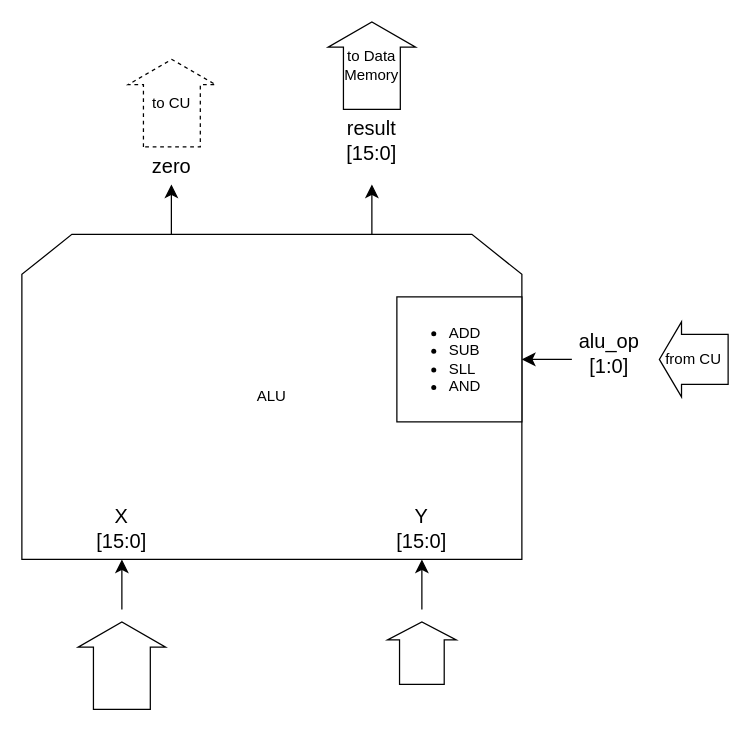
The diagram is 750 pixels wide and 731 high, and some of its shapes have lost their labels. Here are the shapes that lost their labels. From the top down, the centre of each, then its label:
At (x=121, y=665): "from Register File".
At (x=421, y=652): "from MUX".
